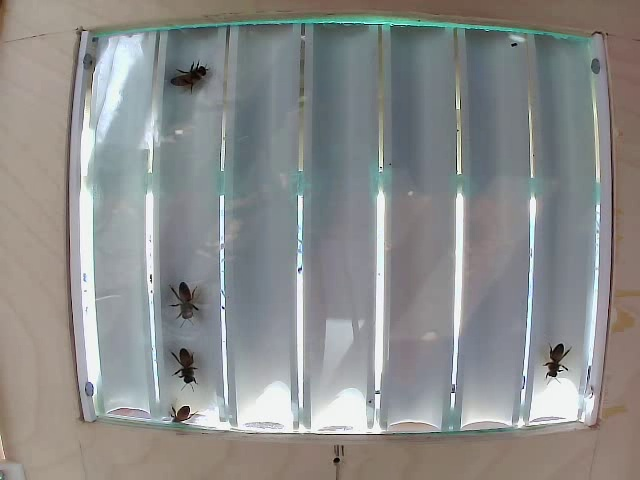bee: (179, 65, 213, 110), (167, 283, 197, 330), (536, 337, 568, 377), (170, 346, 193, 390)
